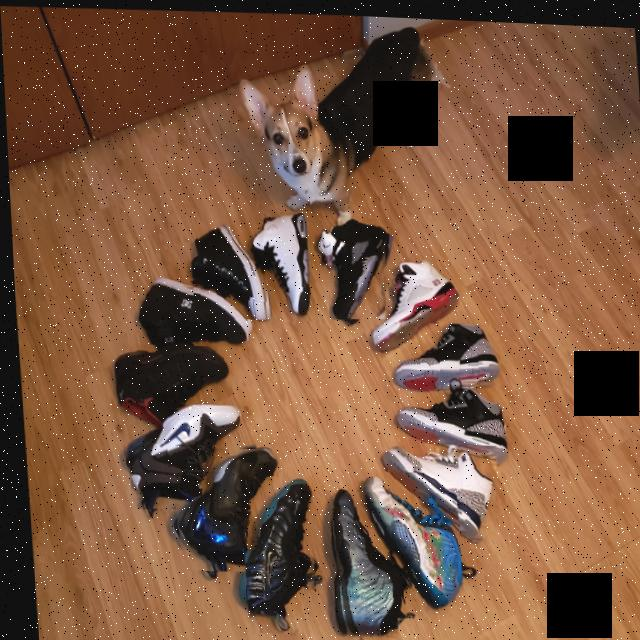shoe: (357, 466, 459, 618), (120, 400, 257, 512), (162, 442, 279, 572), (233, 472, 319, 634), (376, 437, 497, 540), (321, 478, 392, 635), (365, 247, 458, 353), (319, 190, 390, 319), (390, 380, 507, 458), (185, 208, 267, 318), (251, 183, 314, 322), (384, 316, 499, 389), (109, 341, 229, 410), (134, 279, 246, 347)
